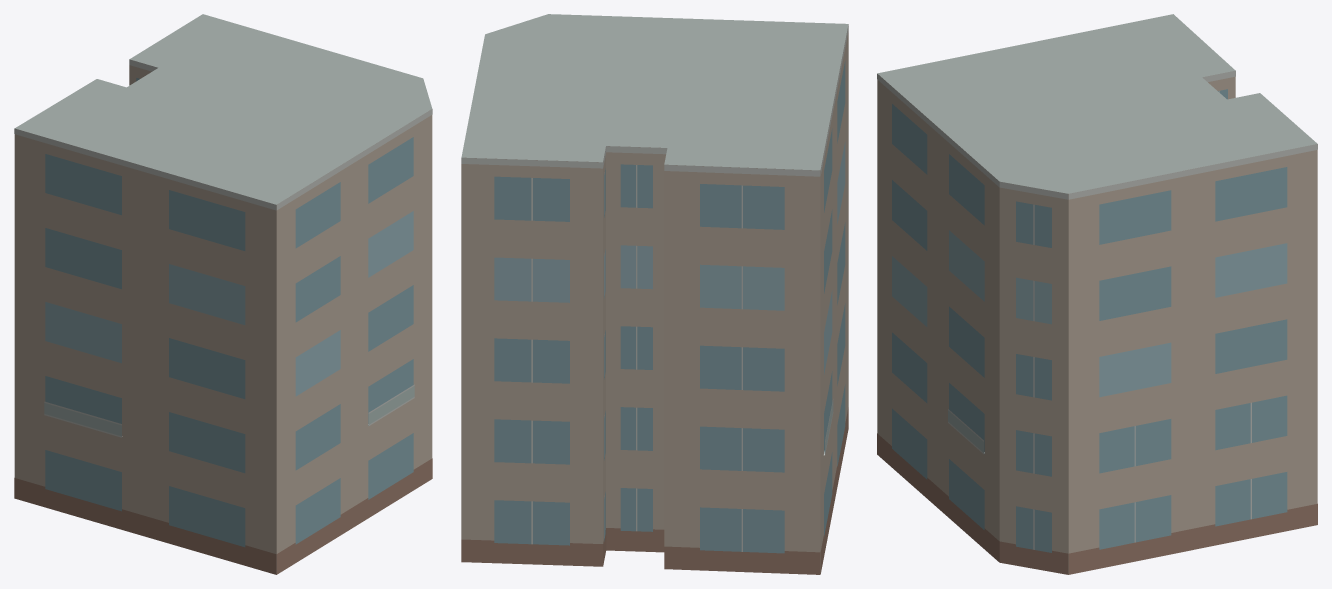
The model's file is survey-upis-32746747.glb.
The picture shows the model from 3 angles, left to right: view 1: azimuth 30°, elevation 25°; view 2: azimuth 150°, elevation 25°; view 3: azimuth 270°, elevation 25°; orthographic projection. The views are drawn at different scales.
Parts seen in each view (by area): view 1: survey-upis-32746747.tmp; view 2: survey-upis-32746747.tmp; view 3: survey-upis-32746747.tmp.
Part boxes in pixels (bbox=[...]): survey-upis-32746747.tmp: bbox=[14, 14, 432, 574]; survey-upis-32746747.tmp: bbox=[461, 14, 848, 574]; survey-upis-32746747.tmp: bbox=[877, 14, 1317, 574].
Size of the model in its own units: 15.87 by 15.67 by 16.43.
